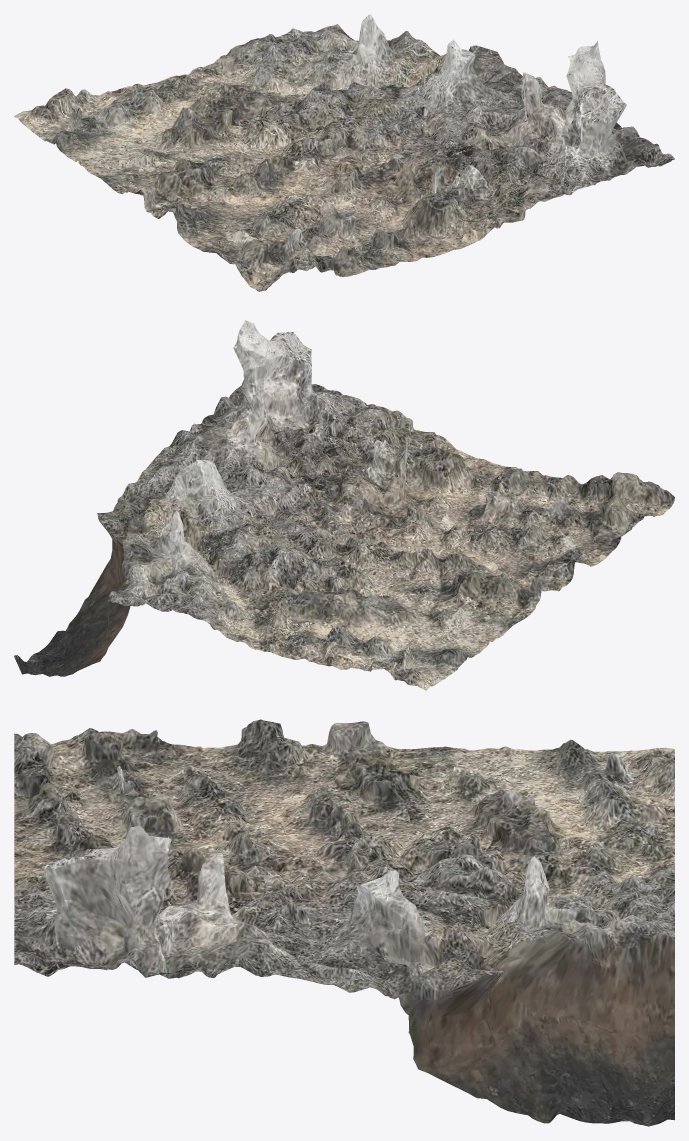
File: Block_L20_219.glb
3 renders of one model, top to bottom at view 1: azimuth 30°, elevation 25°; view 2: azimuth 150°, elevation 25°; view 3: azimuth 270°, elevation 25°, orthographic. The views are drawn at different scales.
Parts seen in each view (by area): view 1: rtc; view 2: rtc; view 3: rtc.
Part boxes in pixels (bbox=[...]): rtc: bbox=[14, 14, 674, 291]; rtc: bbox=[14, 320, 674, 690]; rtc: bbox=[14, 719, 674, 1126].
Bounding box in the file's own units: 20.25 × 10.22 × 21.18.
Materials: 2 (2 with a texture image).
